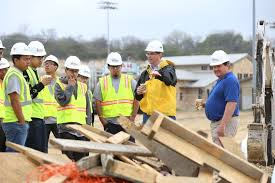hard hat: (10, 43, 35, 57), (209, 50, 229, 66), (26, 41, 47, 56), (144, 39, 165, 53), (65, 56, 82, 70), (106, 52, 123, 66), (43, 55, 59, 66)
high-vis: (1, 70, 32, 123), (99, 74, 134, 117), (56, 77, 87, 125), (27, 69, 44, 120), (42, 74, 57, 118)
